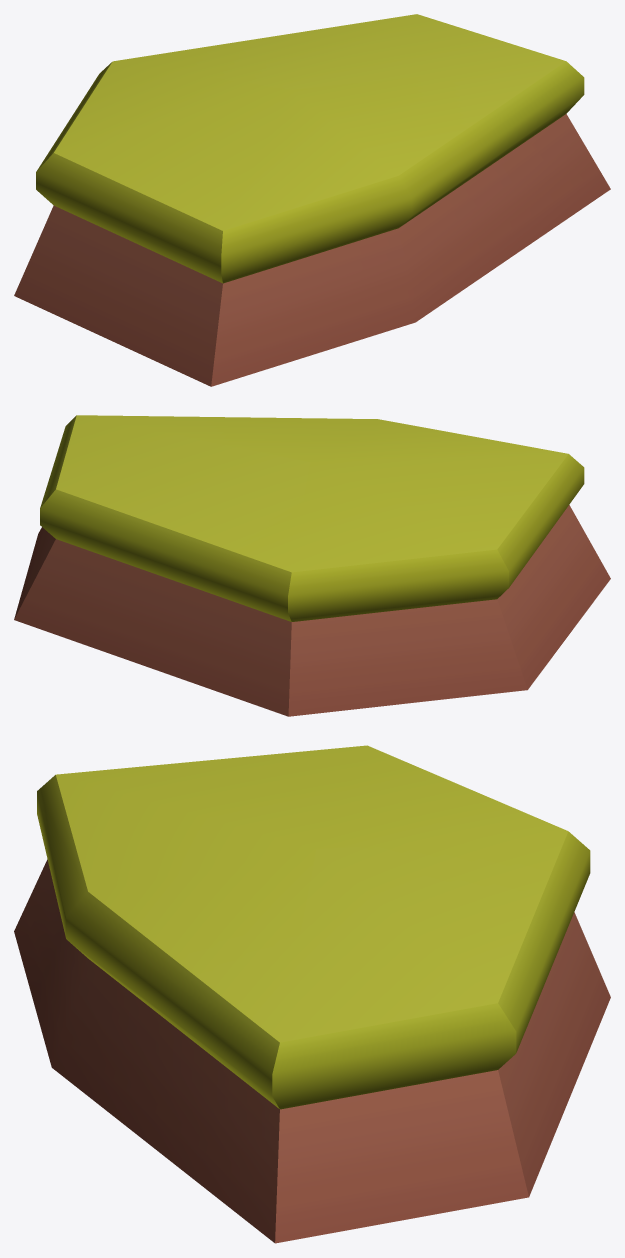
The model's file is d_kaykit_butte_a.glb.
3 views of the same model, one above another, from view 1: azimuth 30°, elevation 25°; view 2: azimuth 150°, elevation 25°; view 3: azimuth 270°, elevation 25° (orthographic). The views are drawn at different scales.
Parts seen in each view (by area): view 1: d_kaykit_butte_a; view 2: d_kaykit_butte_a; view 3: d_kaykit_butte_a.
Boxes of the visible parts, x1=… form: d_kaykit_butte_a: x1=14, y1=14, x2=610, y2=386; d_kaykit_butte_a: x1=14, y1=415, x2=610, y2=716; d_kaykit_butte_a: x1=14, y1=745, x2=610, y2=1243.
Bounding box in the file's own units: 1.11 × 0.3073 × 0.8094.
1 material, 1 textured.
